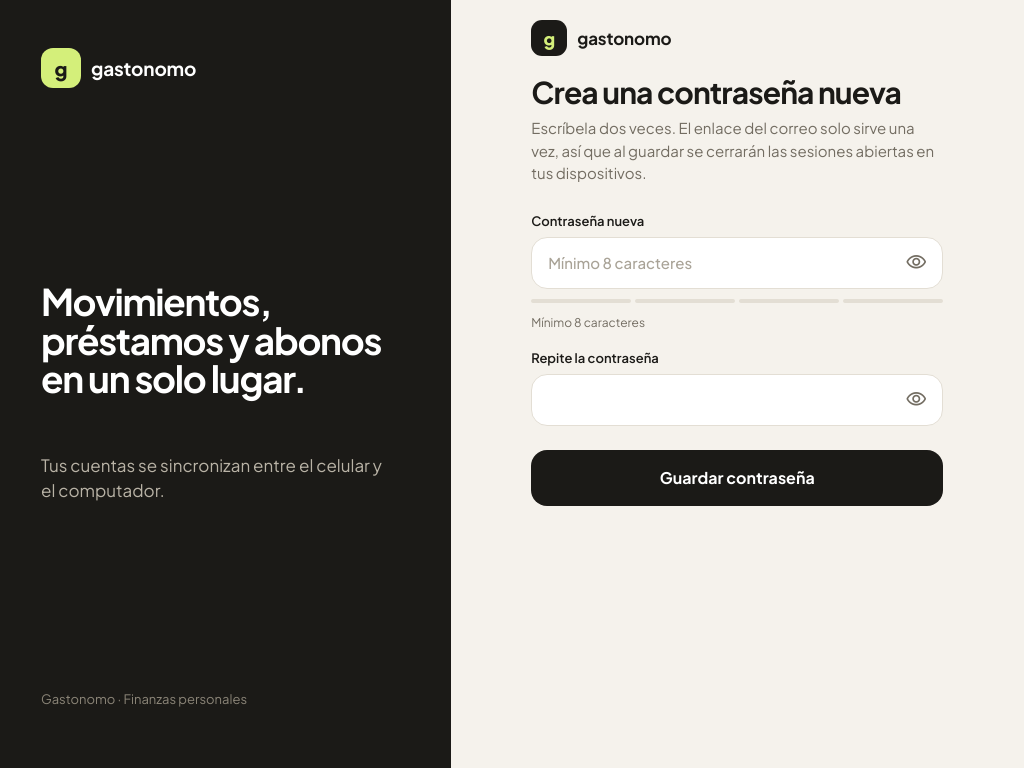
it: la pantalla de restablecer contrasena › manda el token del enlace y confirma el cambio
The image size is (1024, 768).
Type "contrasena9" into the password field labelled "Contraseña nueva".
click(737, 262); type("contrasena9")  # box [531,236,943,288]
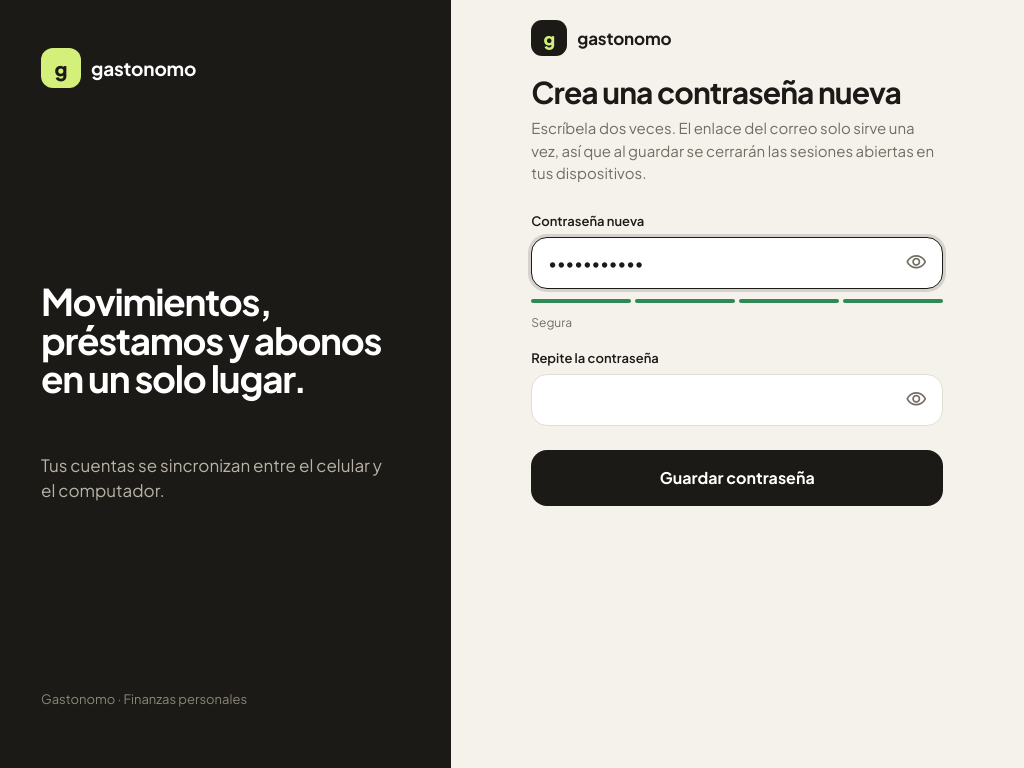
Type "contrasena9" into the password field labelled "Repite la contraseña".
click(737, 400); type("contrasena9")  # box [531,374,943,426]
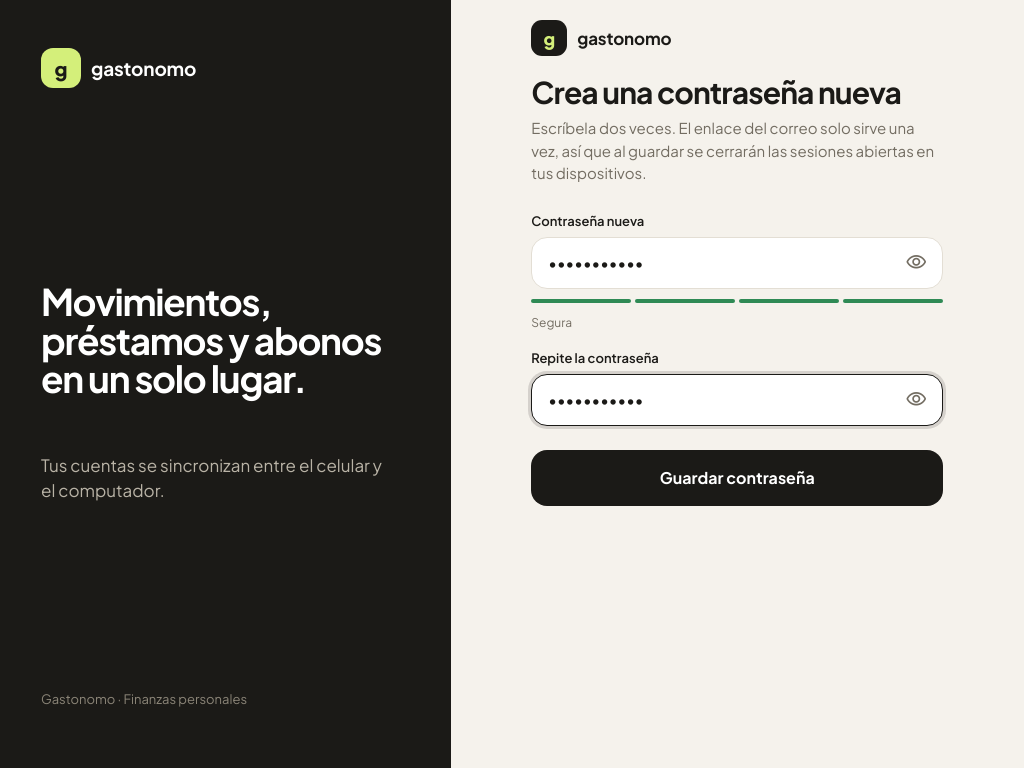
Click the button "Guardar contraseña".
click(737, 478)  # box [531,450,943,506]
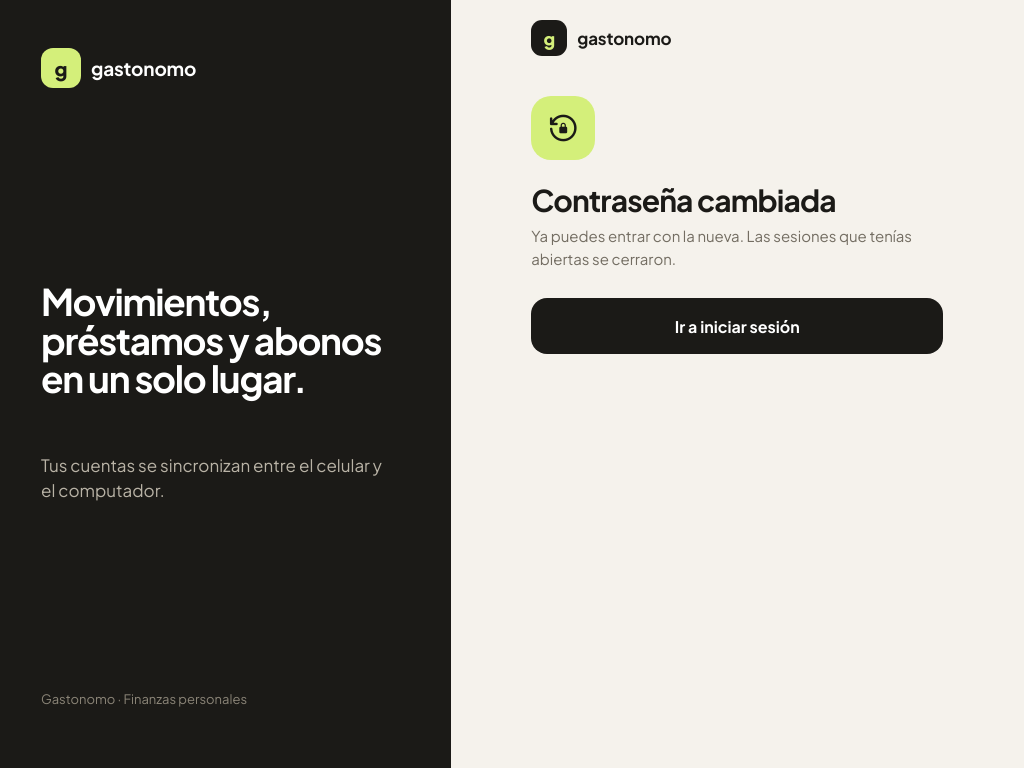
Expected: the heading "Contraseña cambiada" is shown, [531,181,836,219]
